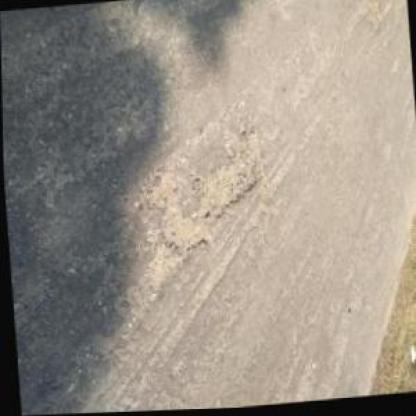pothole: (142, 129, 270, 262)
